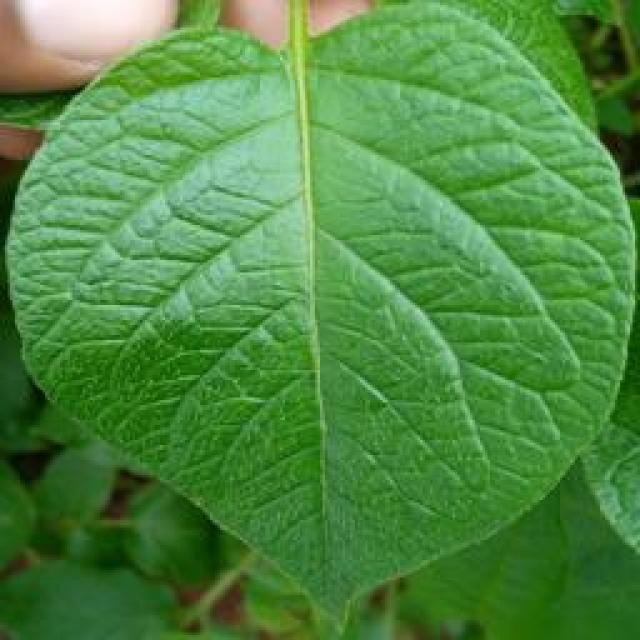healthy: (0, 0, 638, 635)
